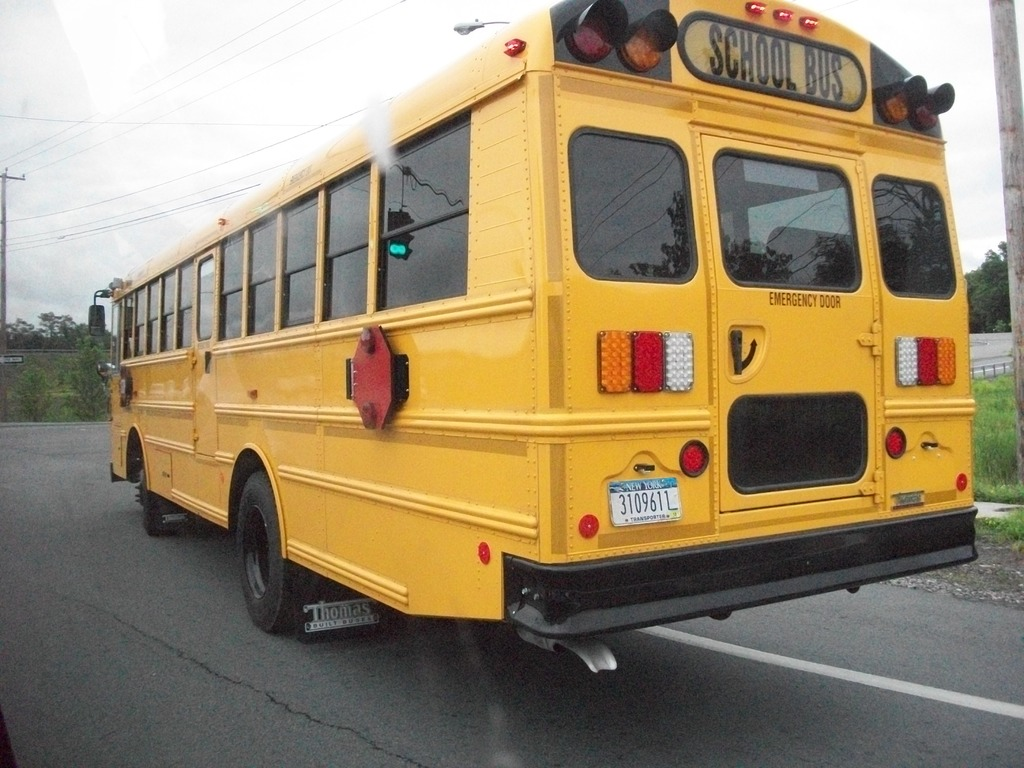Bus: (88, 0, 978, 673)
